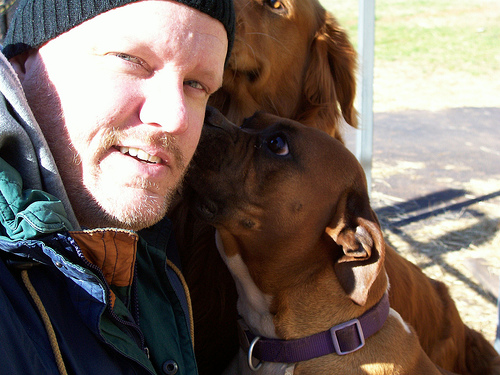without_mask: (52, 8, 221, 232)
